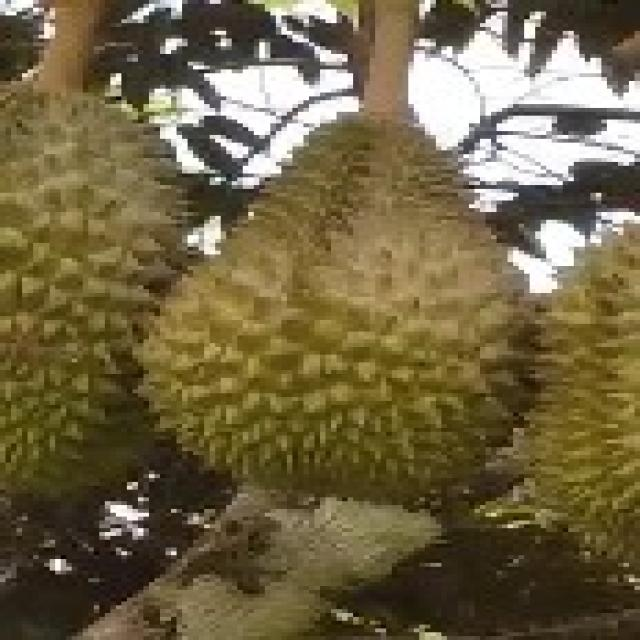immature: (140, 106, 544, 502)
